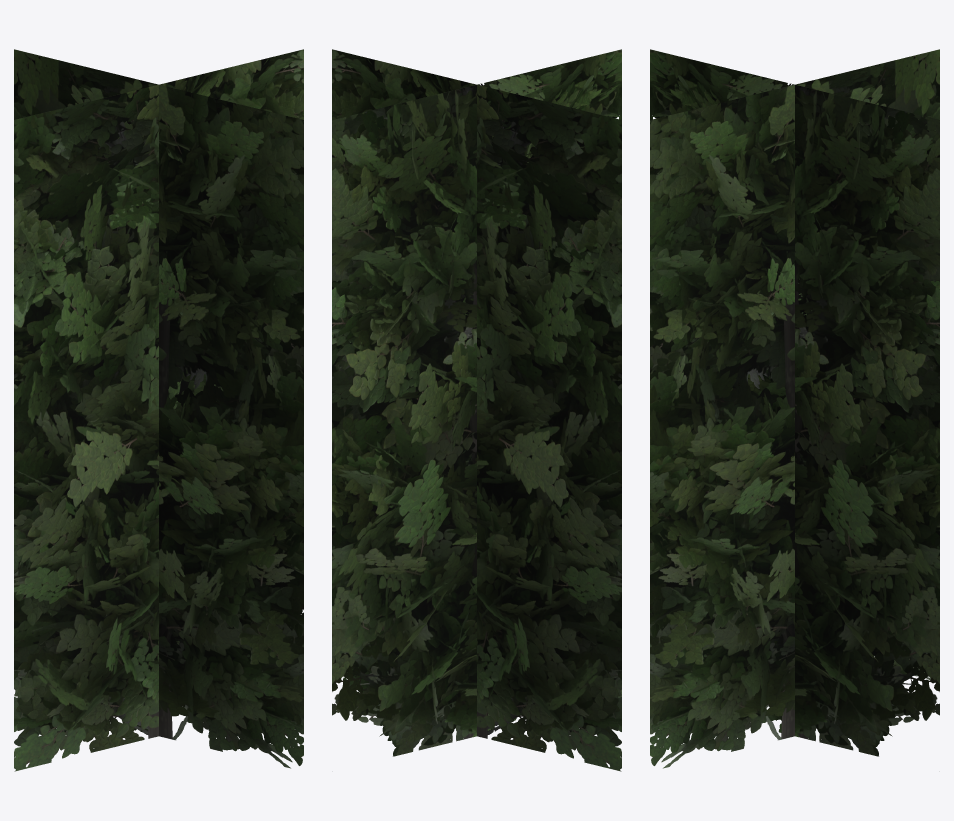
File: olse_stredni_daleko.glb
The picture shows the model from 3 angles, left to right: view 1: azimuth 30°, elevation 25°; view 2: azimuth 150°, elevation 25°; view 3: azimuth 270°, elevation 25°; orthographic projection.
Visible parts, largest first — view 1: olse_stredni_daleko; view 2: olse_stredni_daleko; view 3: olse_stredni_daleko.
Part boxes in pixels (x1,y1,x2,y2): olse_stredni_daleko: (14, 49, 303, 771); olse_stredni_daleko: (332, 49, 621, 771); olse_stredni_daleko: (650, 49, 939, 768).
Size of the model in its own units: 7.24 by 15.56 by 6.27.
3 materials, 3 textured.
